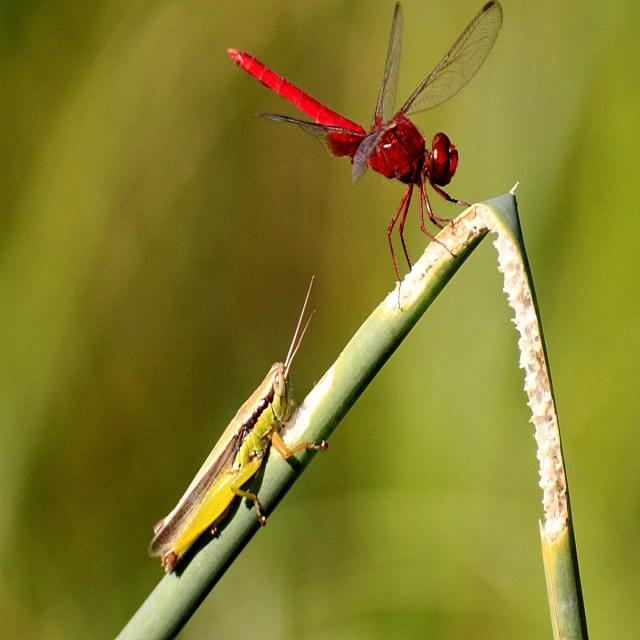ZhaMeng: (146, 351, 313, 579)
